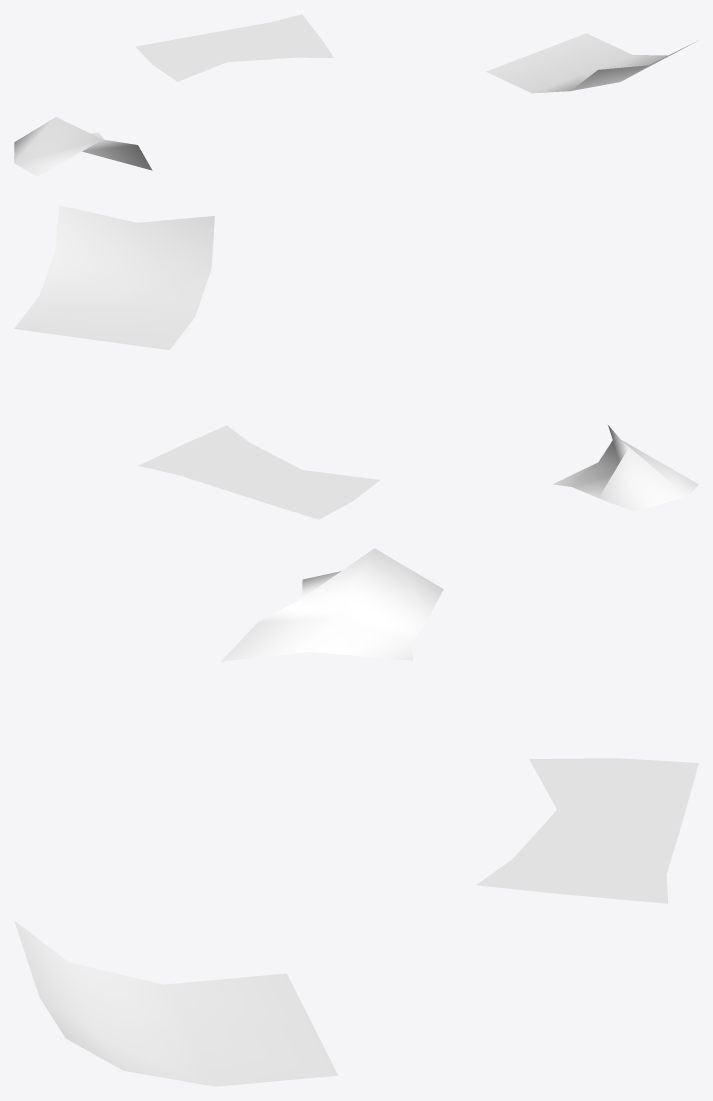
The model's file is FloorTrash_01.fbx.
The picture shows the model from 3 angles, top to bottom: view 1: azimuth 30°, elevation 25°; view 2: azimuth 150°, elevation 25°; view 3: azimuth 270°, elevation 25°; orthographic projection. The views are drawn at different scales.
Parts seen in each view (by area): view 1: FloorTrash_01; view 2: FloorTrash_01; view 3: FloorTrash_01.
Boxes of the visible parts, bbox=[...] form: FloorTrash_01: bbox=[14, 14, 694, 176]; FloorTrash_01: bbox=[14, 205, 698, 519]; FloorTrash_01: bbox=[14, 548, 698, 1086].
Size of the model in its own units: 614 by 46.24 by 332.
